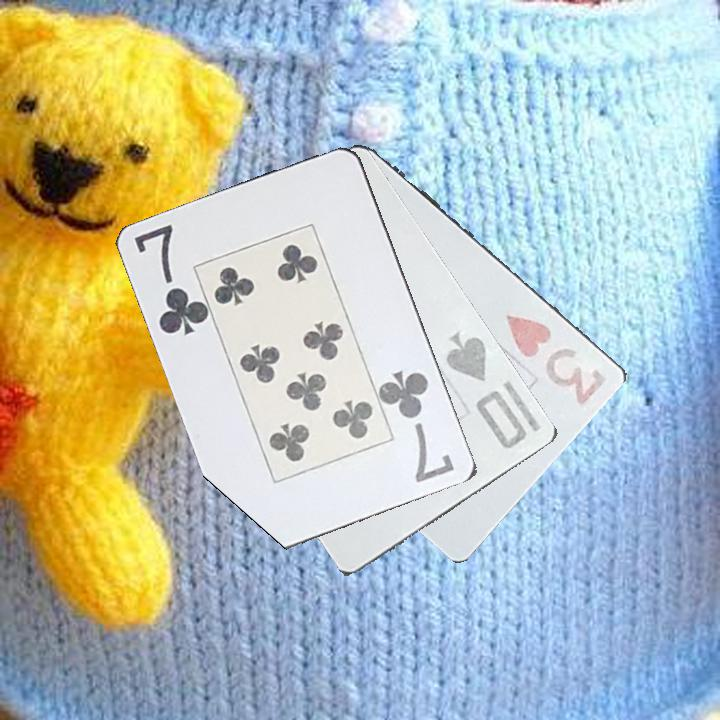3h: (503, 310, 610, 409)
7c: (131, 220, 211, 339), (379, 367, 458, 486)
Ts: (442, 326, 531, 453)
